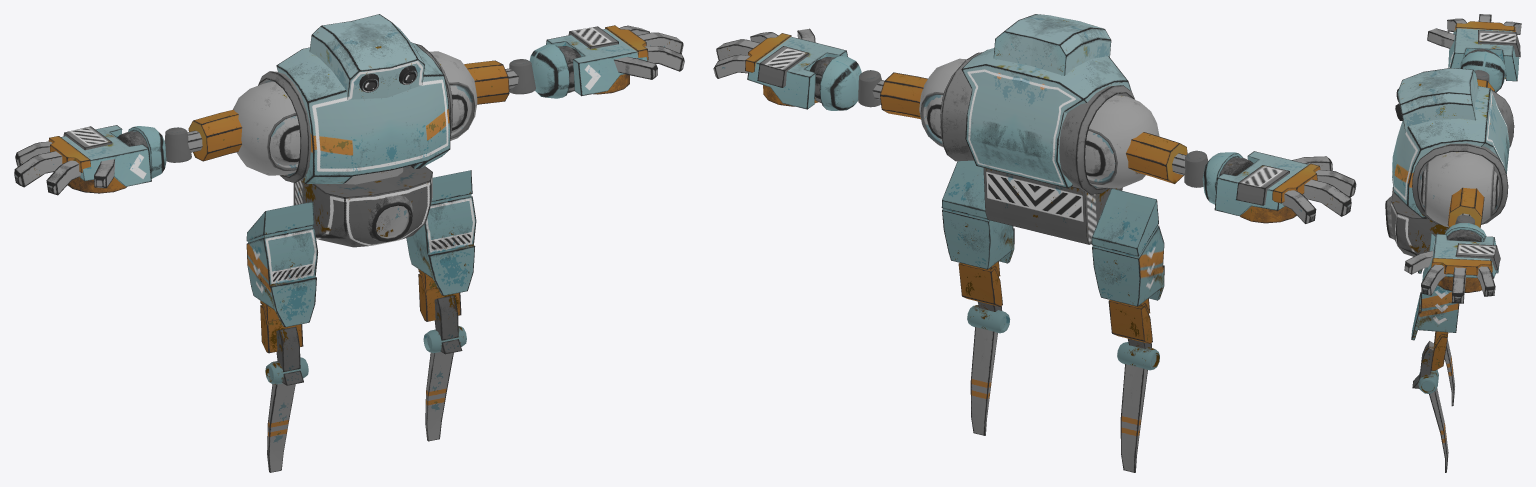
The model's file is mike.glb.
3 views of the same model, side by side, from view 1: azimuth 30°, elevation 25°; view 2: azimuth 150°, elevation 25°; view 3: azimuth 270°, elevation 25° (orthographic). The views are drawn at different scales.
Visible parts, largest first — view 1: Mike; view 2: Mike; view 3: Mike.
Boxes of the visible parts, left/top/right/bottom form: Mike: left=14, top=14, right=684, bottom=472; Mike: left=713, top=14, right=1356, bottom=472; Mike: left=1385, top=14, right=1521, bottom=472.
Size of the model in its own units: 8.53 by 5.37 by 1.83.
1 material, 1 textured.
